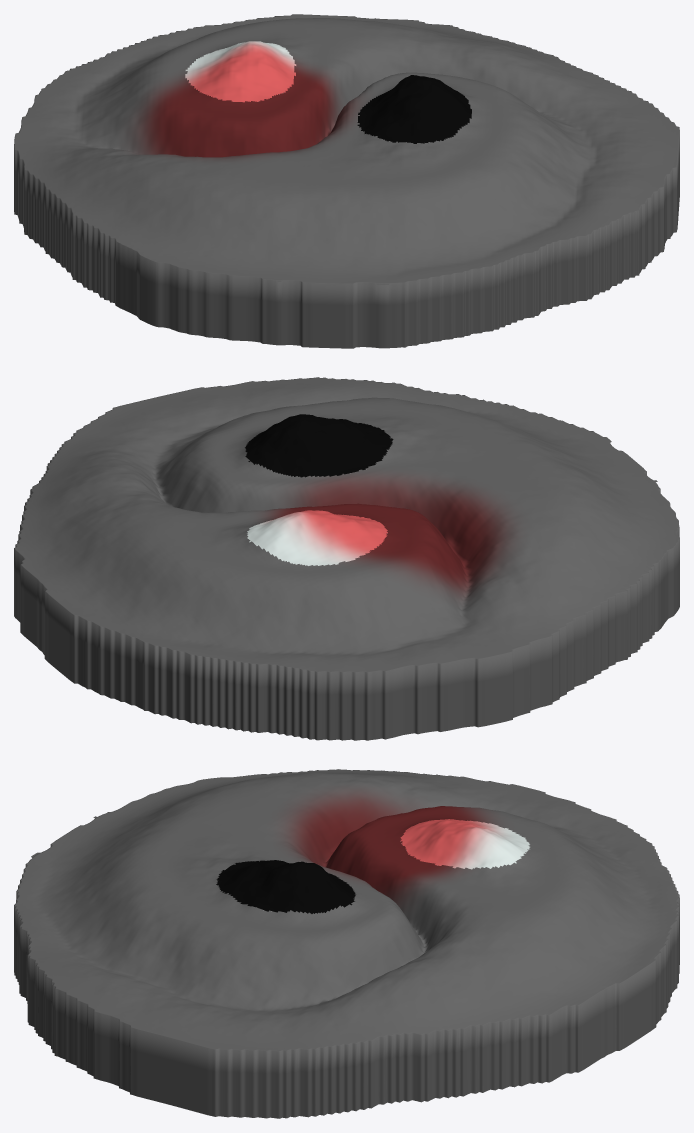
File: yingyang.glb
3 renders of one model, top to bottom at view 1: azimuth 30°, elevation 25°; view 2: azimuth 150°, elevation 25°; view 3: azimuth 270°, elevation 25°, orthographic. The views are drawn at different scales.
Visible parts, largest first — view 1: YingYang.001; view 2: YingYang.001; view 3: YingYang.001.
Boxes of the visible parts, x1,y1,x2,y2 form: YingYang.001: (14, 14, 679, 348); YingYang.001: (14, 377, 679, 740); YingYang.001: (14, 769, 679, 1118).
Size of the model in its own units: 1.25 by 0.2975 by 1.26.
